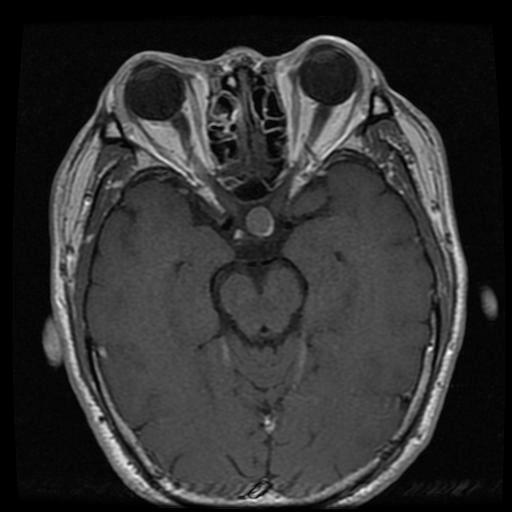Tumour-Pituitary: (234, 202, 278, 251)
